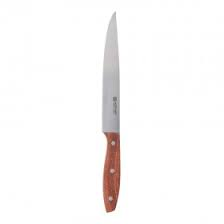kuchillu: (100, 9, 125, 216)
